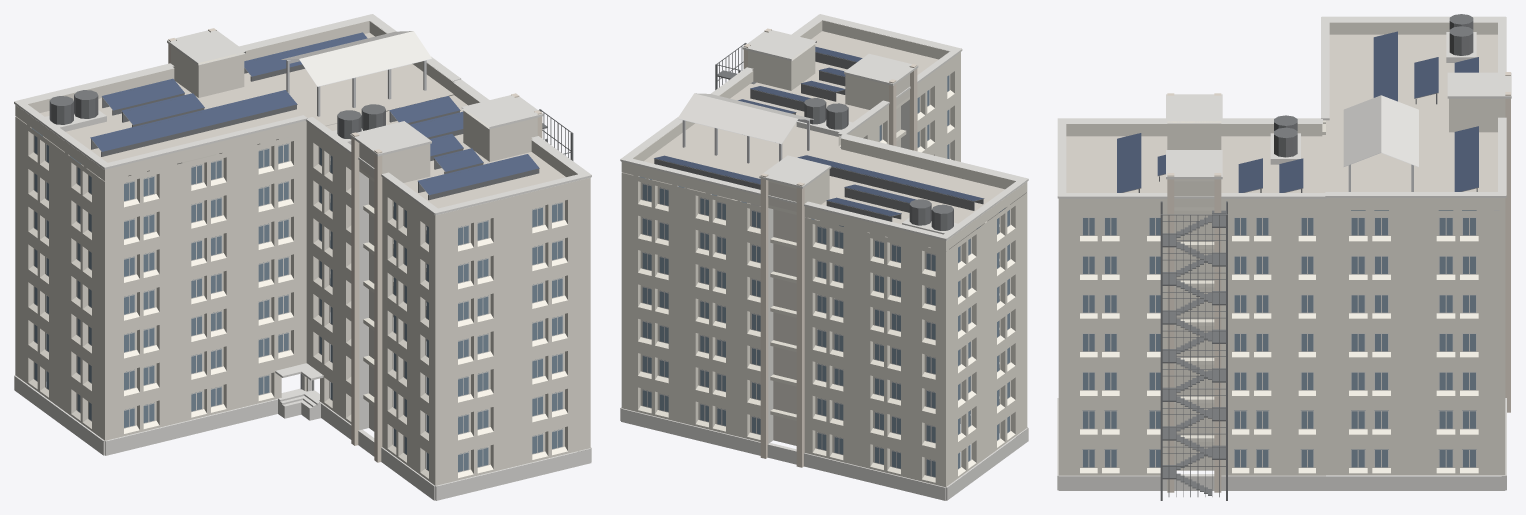
The model's file is Boys_Hostel_4.fbx.
3 views of the same model, side by side, from view 1: azimuth 30°, elevation 25°; view 2: azimuth 150°, elevation 25°; view 3: azimuth 270°, elevation 25° (orthographic). The views are drawn at different scales.
Visible parts, largest first — view 1: Boys_Hostel_4; view 2: Boys_Hostel_4; view 3: Boys_Hostel_4.
Part boxes in pixels (bbox=[...]): Boys_Hostel_4: bbox=[14, 14, 591, 500]; Boys_Hostel_4: bbox=[620, 14, 1028, 500]; Boys_Hostel_4: bbox=[1057, 14, 1511, 500].
Bounding box in the file's own units: 36.8 × 28.88 × 36.22.
